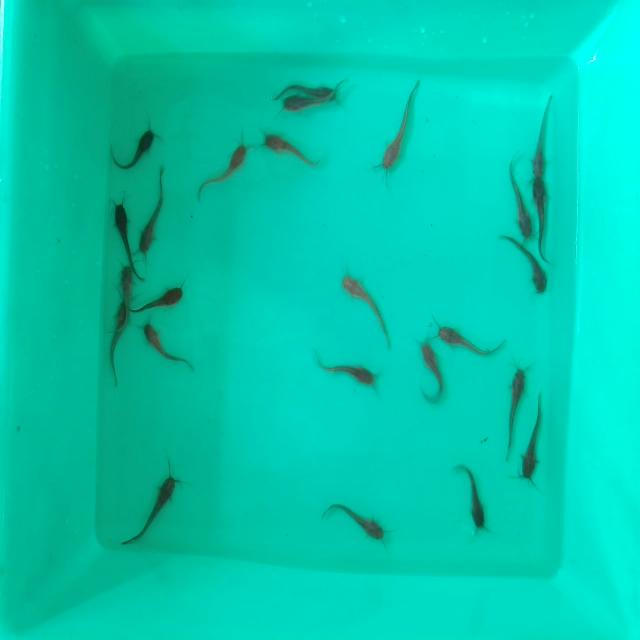lele: (120, 471, 180, 548), (380, 78, 422, 173), (437, 315, 509, 358), (341, 272, 388, 336), (328, 499, 386, 545), (506, 242, 553, 293), (529, 91, 557, 175), (504, 156, 534, 234), (263, 129, 320, 170), (141, 321, 192, 366), (518, 409, 547, 487), (202, 140, 250, 187), (454, 460, 489, 524), (139, 171, 166, 253), (317, 353, 378, 389), (532, 175, 556, 260), (414, 342, 446, 404), (109, 302, 133, 382), (115, 122, 154, 170), (132, 284, 190, 316), (110, 185, 134, 260), (505, 364, 528, 442), (274, 71, 336, 97), (110, 261, 137, 301), (282, 96, 336, 110)
